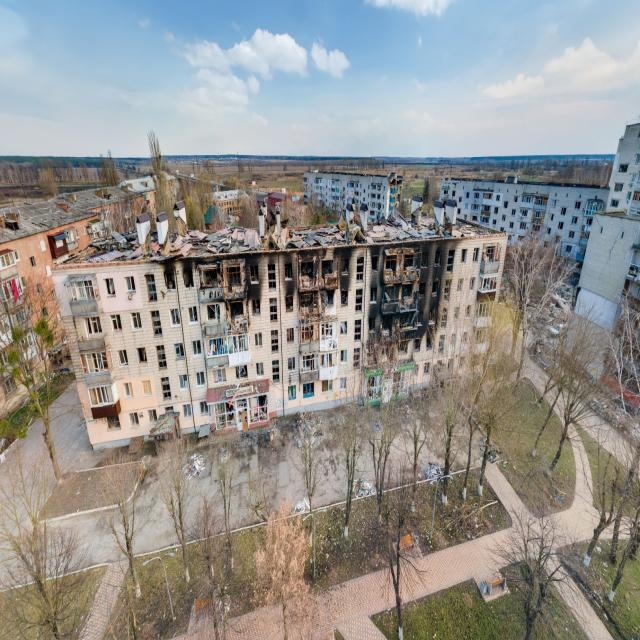building: (48, 194, 510, 453), (434, 176, 610, 300), (302, 169, 396, 224)
